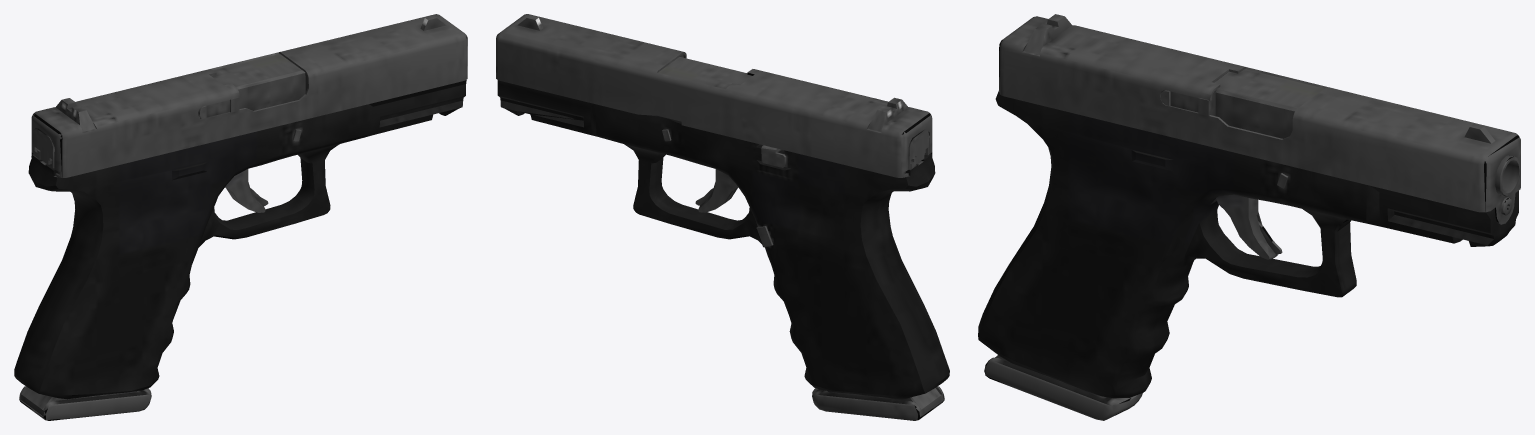
The model's file is glock.glb.
3 views of the same model, side by side, from view 1: azimuth 30°, elevation 25°; view 2: azimuth 150°, elevation 25°; view 3: azimuth 330°, elevation 25° (orthographic). The views are drawn at different scales.
Visible parts, largest first — view 1: glock; view 2: glock; view 3: glock.
Part boxes in pixels (bbox=[...]): glock: bbox=[14, 14, 467, 420]; glock: bbox=[496, 14, 949, 420]; glock: bbox=[978, 14, 1520, 420].
Bounding box in the file's own units: 0.19 × 0.1283 × 0.0248.
1 material, 1 textured.
